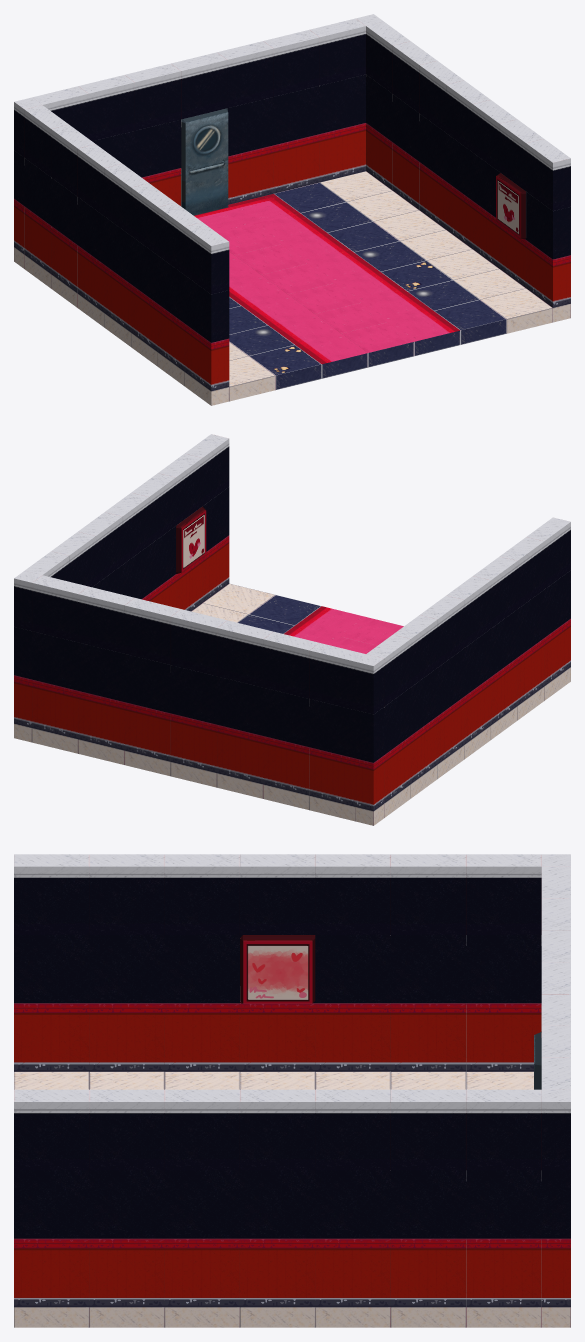
Rendered from Alley.fbx.
3 renders of one model, top to bottom at view 1: azimuth 30°, elevation 25°; view 2: azimuth 150°, elevation 25°; view 3: azimuth 270°, elevation 25°, orthographic. The views are drawn at different scales.
Parts seen in each view (by area): view 1: Alley; view 2: Alley; view 3: Alley.
Part boxes in pixels (x1,y1,x2,y2): Alley: (14, 14, 570, 405); Alley: (14, 434, 570, 825); Alley: (14, 854, 570, 1327).
Bounding box in the file's own units: 778 × 330 × 739.
